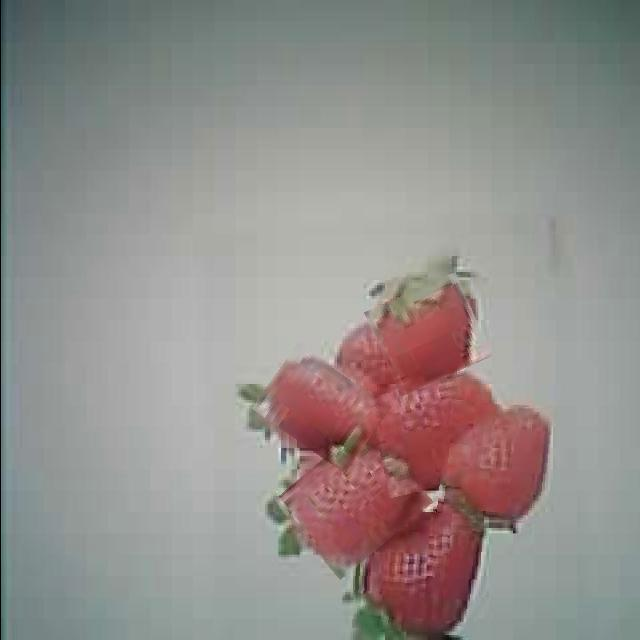strawberry: (282, 435, 423, 566), (354, 508, 482, 635), (370, 373, 492, 492), (258, 354, 384, 461), (440, 401, 550, 521), (370, 280, 484, 388)
